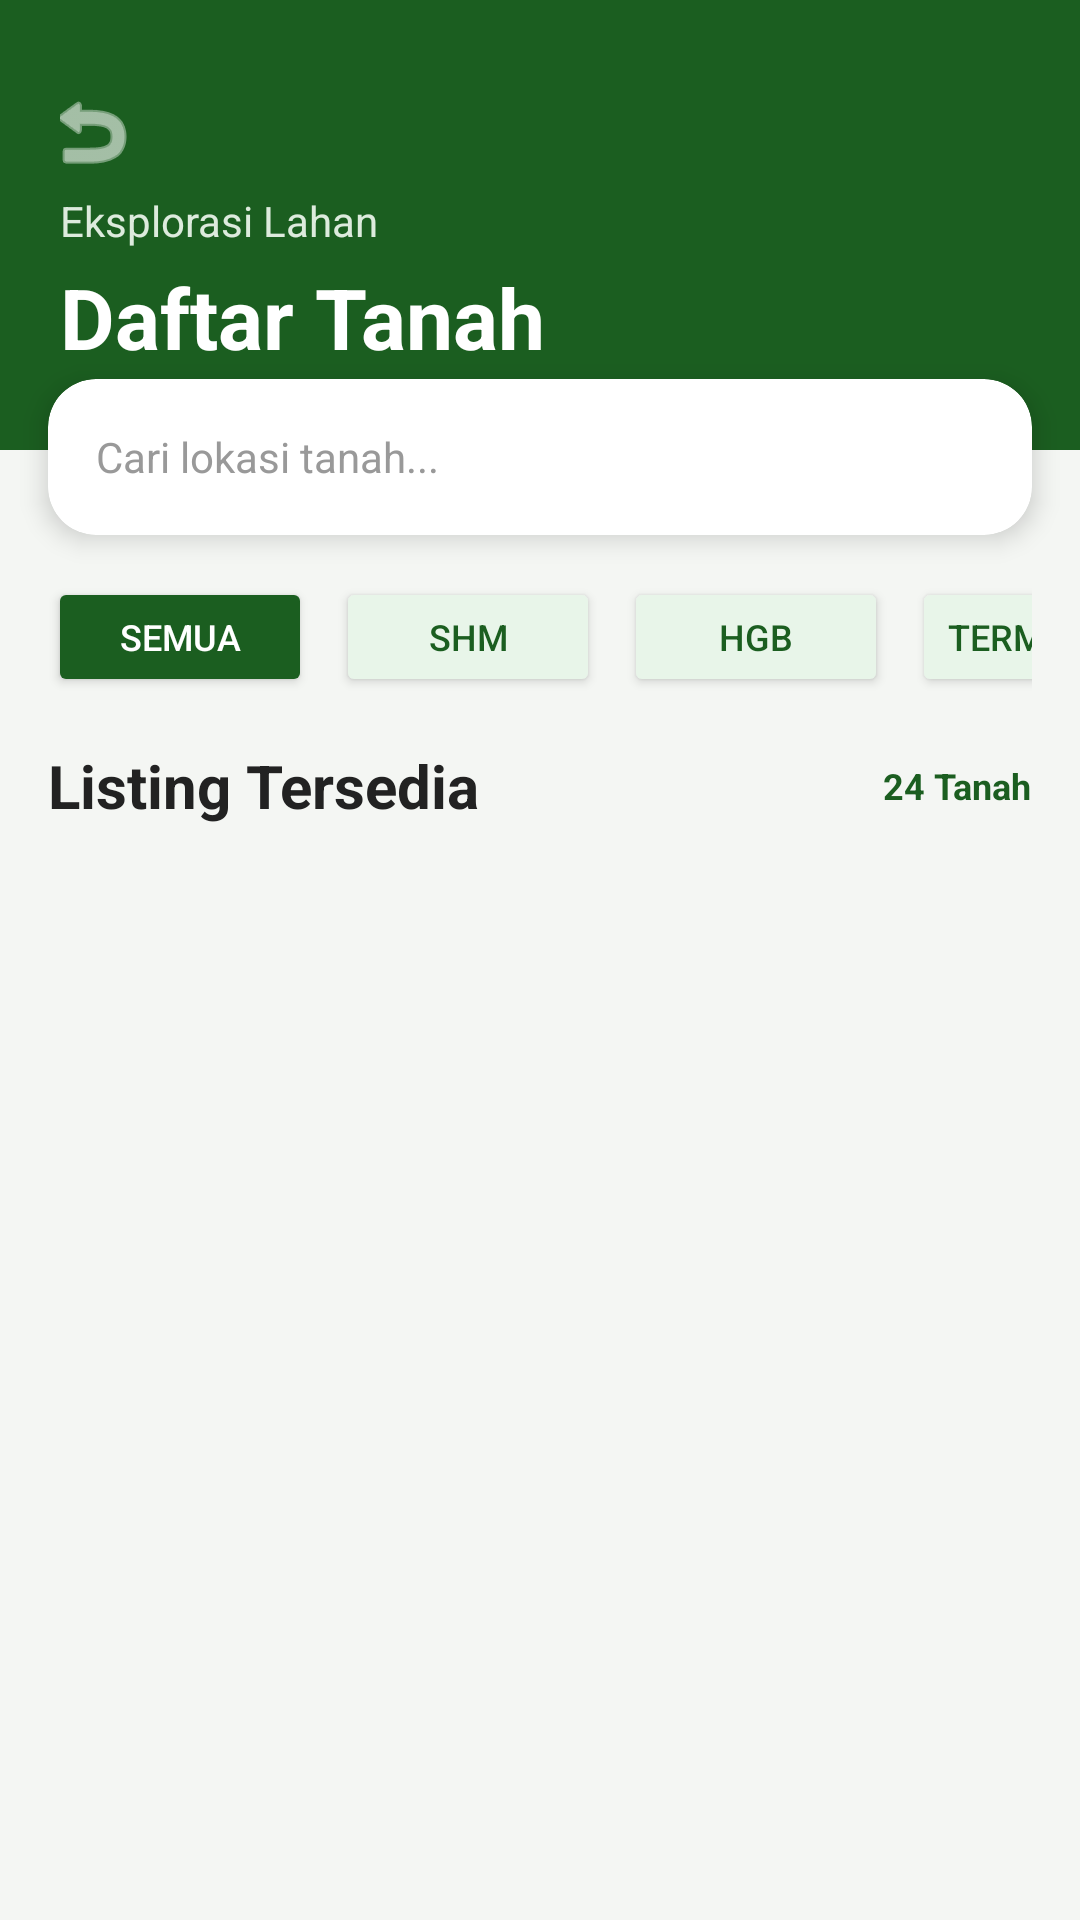

Icon bounding boxes for this 1080 x 1920 phone screenshot, format [left=x1, top=y1, right=x2, bottom=y2]:
Back: [left=60, top=101, right=127, bottom=164]
